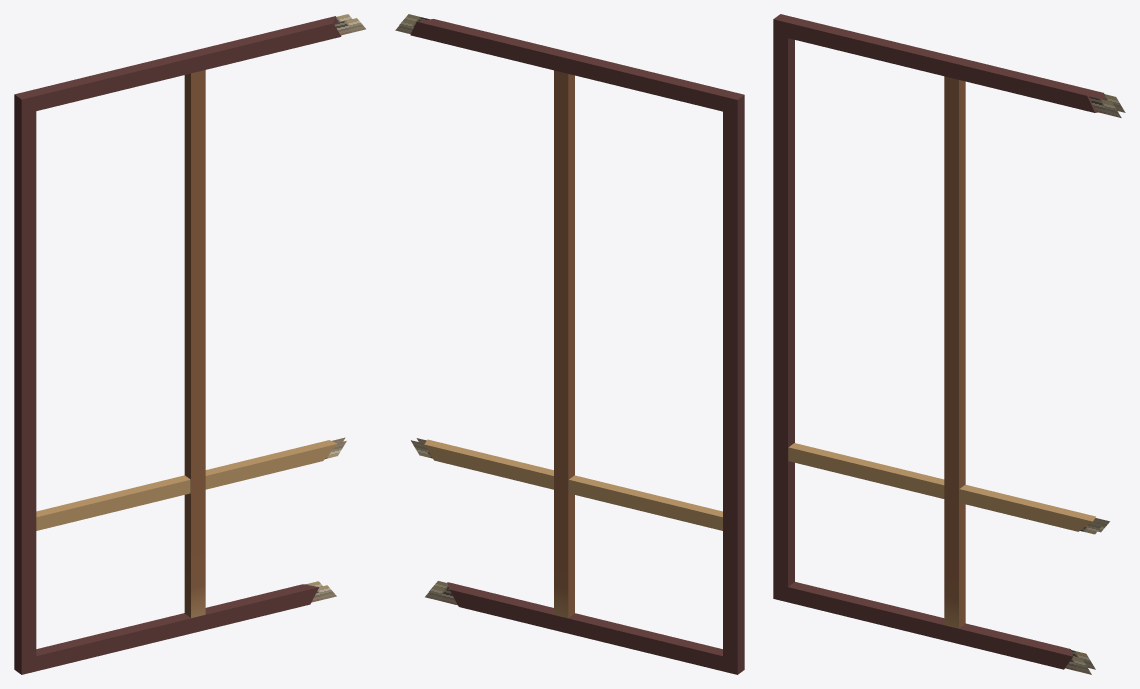
The model's file is DBK_WinBig_Wood_Side.fbx.
3 renders of one model, left to right at view 1: azimuth 30°, elevation 25°; view 2: azimuth 150°, elevation 25°; view 3: azimuth 330°, elevation 25°, orthographic.
Visible parts, largest first — view 1: DBK_WinBig_Wood_Side; view 2: DBK_WinBig_Wood_Side; view 3: DBK_WinBig_Wood_Side.
Part boxes in pixels (x1,y1,x2,y2): DBK_WinBig_Wood_Side: (14,14,365,674); DBK_WinBig_Wood_Side: (395,14,744,674); DBK_WinBig_Wood_Side: (773,14,1125,674).
Bounding box in the file's own units: 132 × 210 × 4.75.
